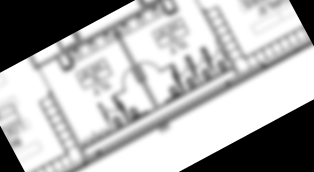door: (136, 55, 163, 82), (116, 67, 141, 92), (98, 95, 123, 120), (203, 39, 226, 62), (187, 47, 210, 70), (172, 57, 194, 79)
wall: (82, 59, 267, 163), (110, 23, 162, 111), (43, 86, 89, 162), (198, 4, 243, 77)
